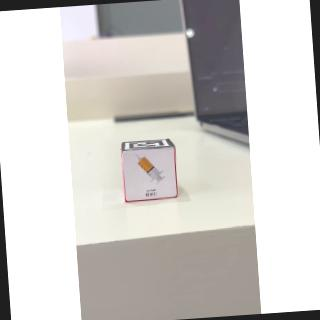Syringe: (121, 148, 178, 204)
